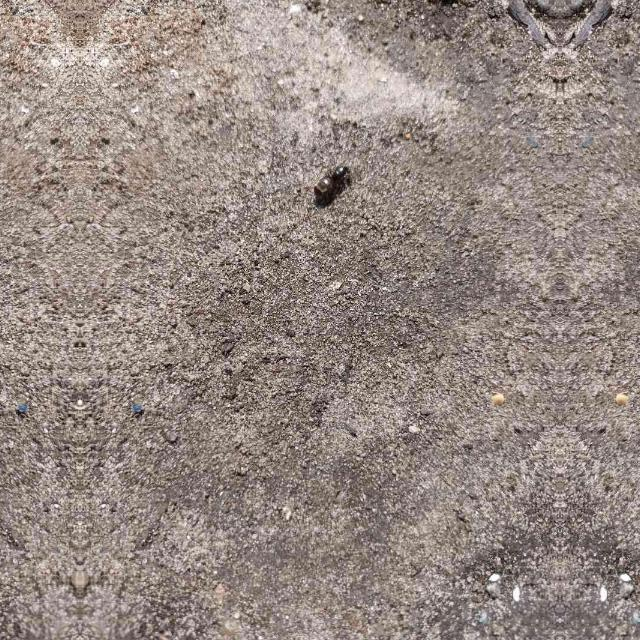Lasius: (315, 156, 355, 204)
